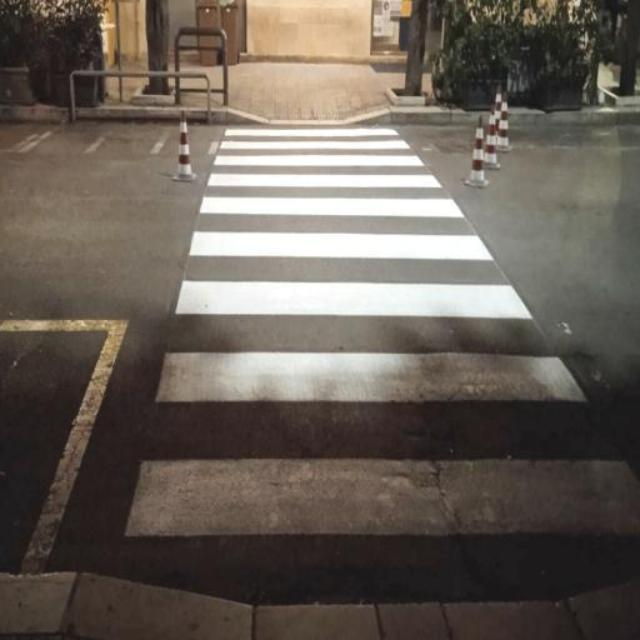sidewalk: (123, 119, 638, 540)
